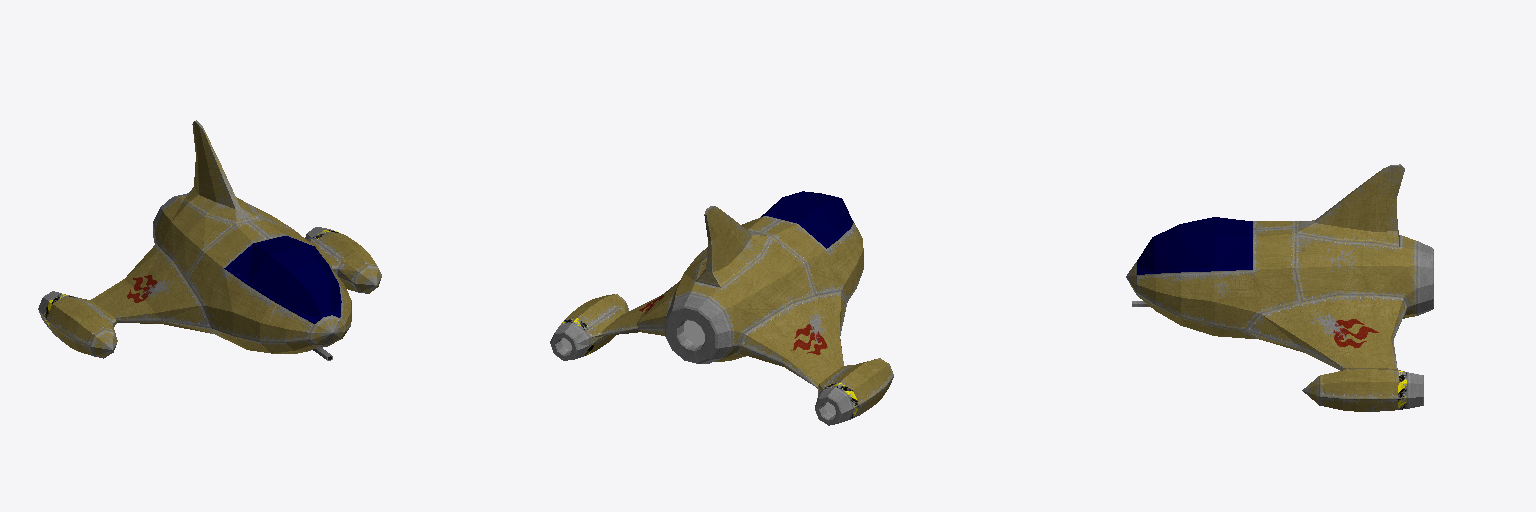
3 views of the same model, side by side, from view 1: azimuth 30°, elevation 25°; view 2: azimuth 150°, elevation 25°; view 3: azimuth 270°, elevation 25° (orthographic).
Visible parts, largest first — view 1: shipA; view 2: shipA; view 3: shipA.
Part boxes in pixels (x1,y1,x2,y2): shipA: (38, 120, 381, 360); shipA: (550, 191, 893, 425); shipA: (1126, 164, 1433, 411).
Size of the model in its own units: 2.54 by 1.45 by 2.24.
1 materials, 1 textured.